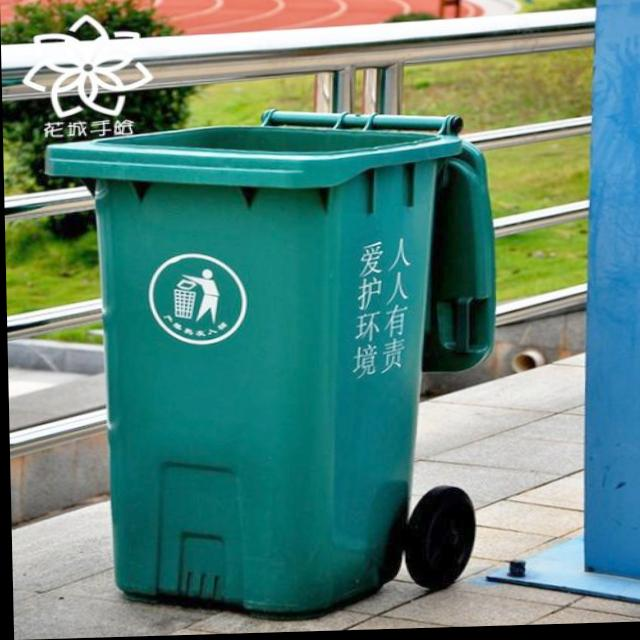garbage_bin: (46, 107, 497, 629)
